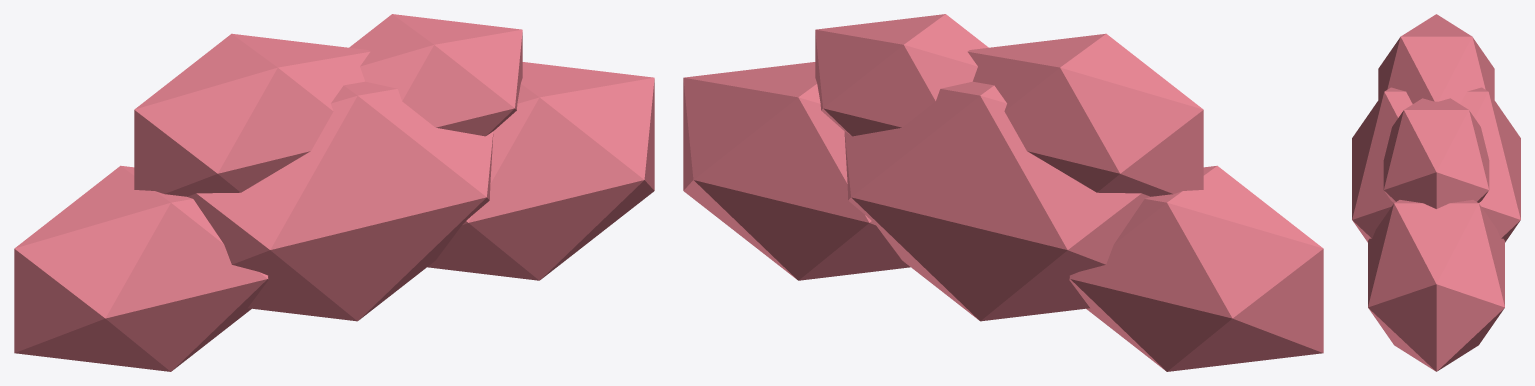
File: cloud.glb
3 renders of one model, left to right at view 1: azimuth 30°, elevation 25°; view 2: azimuth 150°, elevation 25°; view 3: azimuth 270°, elevation 25°, orthographic. The views are drawn at different scales.
Visible parts, largest first — view 1: Cloud; view 2: Cloud; view 3: Cloud.
Boxes of the visible parts, x1,y1,x2,y2 form: Cloud: [14, 14, 654, 371]; Cloud: [683, 14, 1323, 371]; Cloud: [1352, 14, 1520, 371].
Bounding box in the file's own units: 3.23 × 1.33 × 0.9527.
